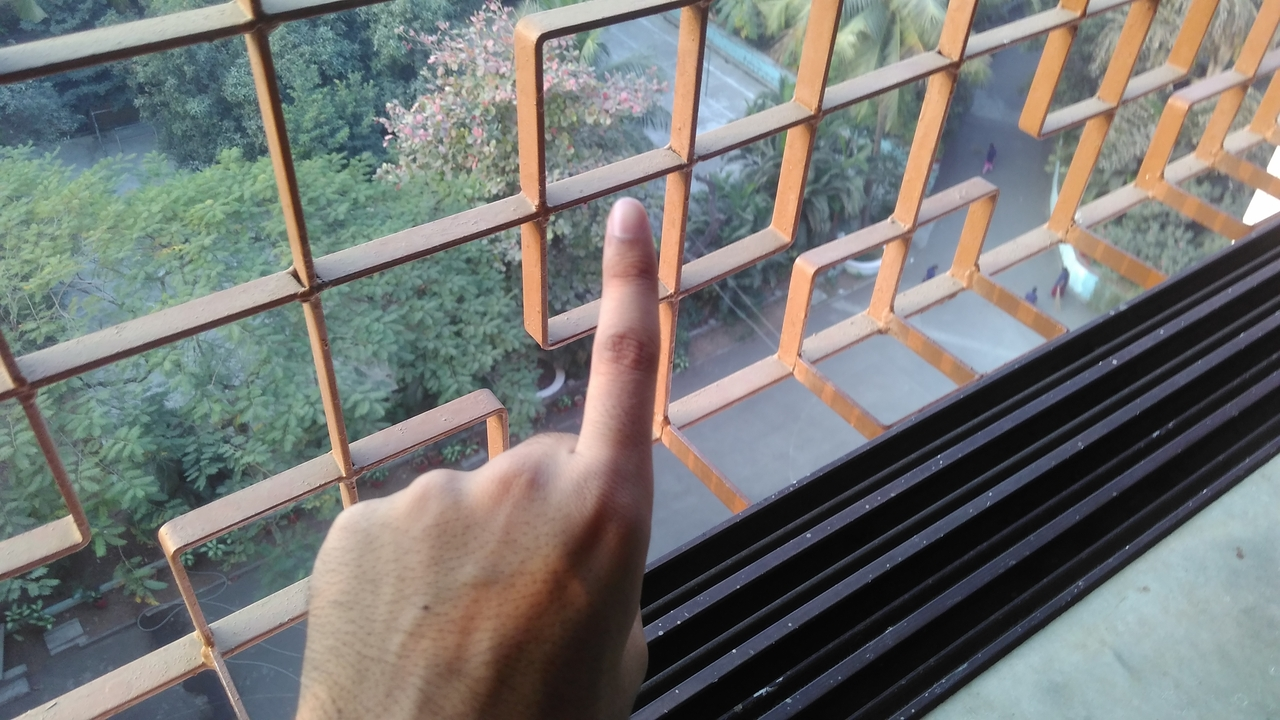fingertip: (600, 190, 654, 254)
